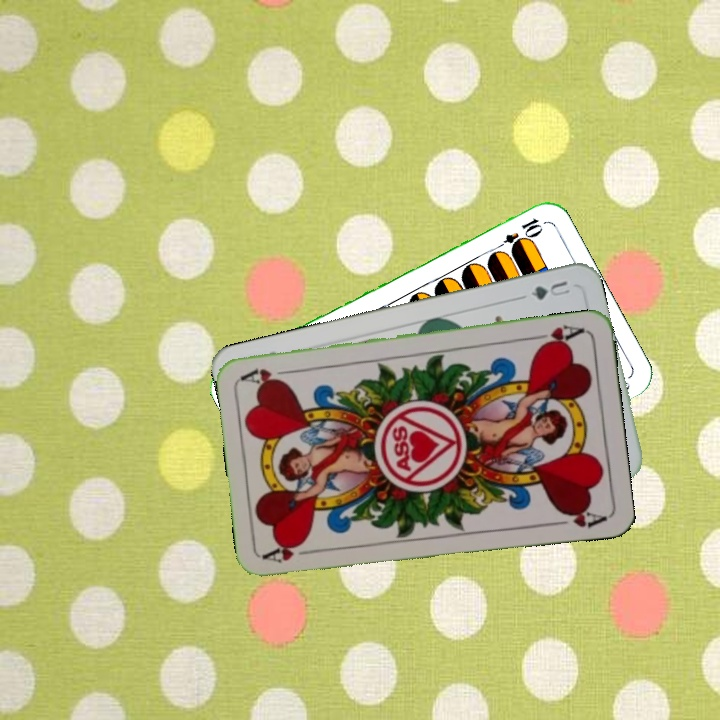E10: (490, 214, 545, 255)
GU: (526, 276, 573, 303)
HA: (528, 321, 587, 350), (261, 537, 320, 566)
